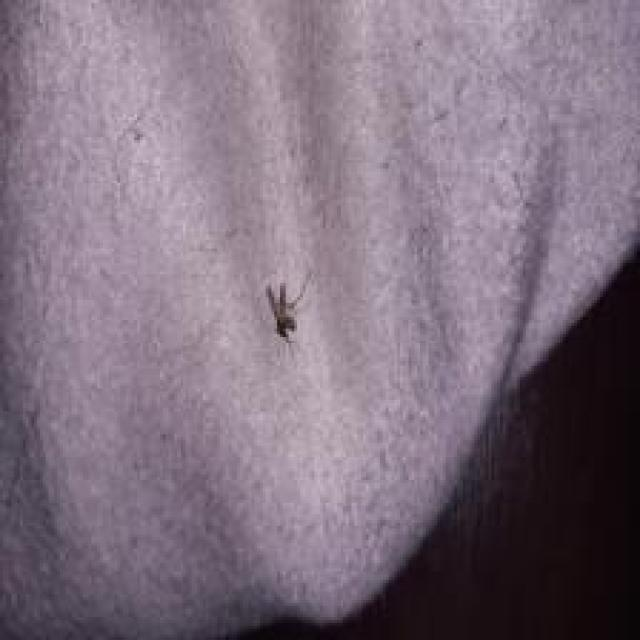Culex: (263, 273, 311, 350)
